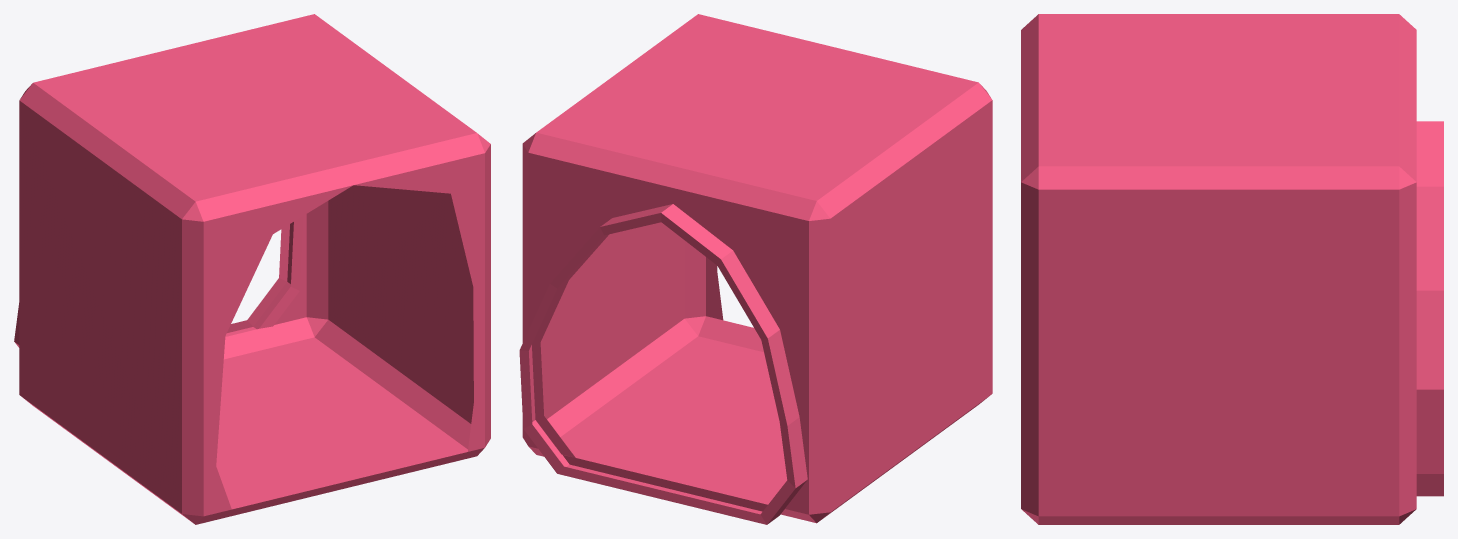
File: SM_house_8.fbx
3 renders of one model, left to right at view 1: azimuth 30°, elevation 25°; view 2: azimuth 150°, elevation 25°; view 3: azimuth 270°, elevation 25°, orthographic. The views are drawn at different scales.
Visible parts, largest first — view 1: SM_house_6; view 2: SM_house_6; view 3: SM_house_6.
Boxes of the visible parts, left/top/right/bottom form: SM_house_6: left=14, top=14, right=490, bottom=524; SM_house_6: left=519, top=14, right=992, bottom=524; SM_house_6: left=1021, top=14, right=1443, bottom=524.
Bounding box in the file's own units: 1101 × 1030 × 1030.
